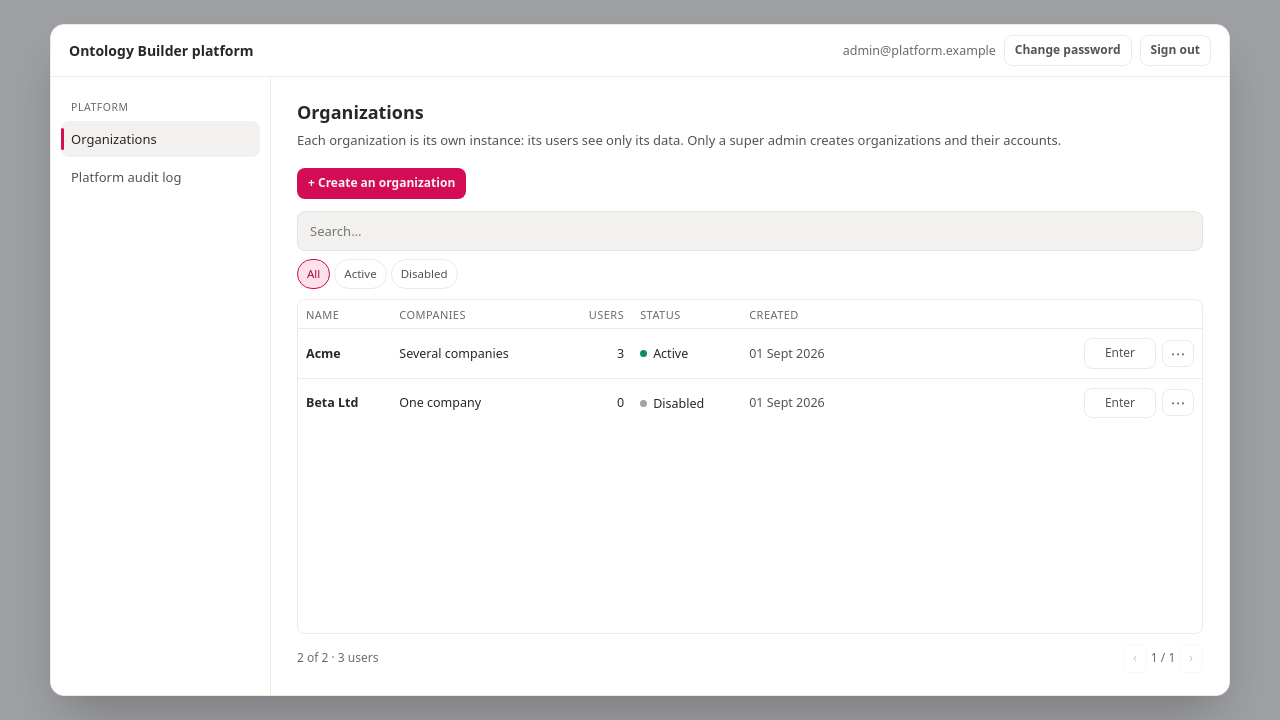
Scenario: the platform portal › shows the platform audit log with its six columns and ok or refused
What coordinates should you click on to do the following:
click the button "Platform audit log"
I would click on:
 (160, 177)
Its box is left=61, top=159, right=260, bottom=196.
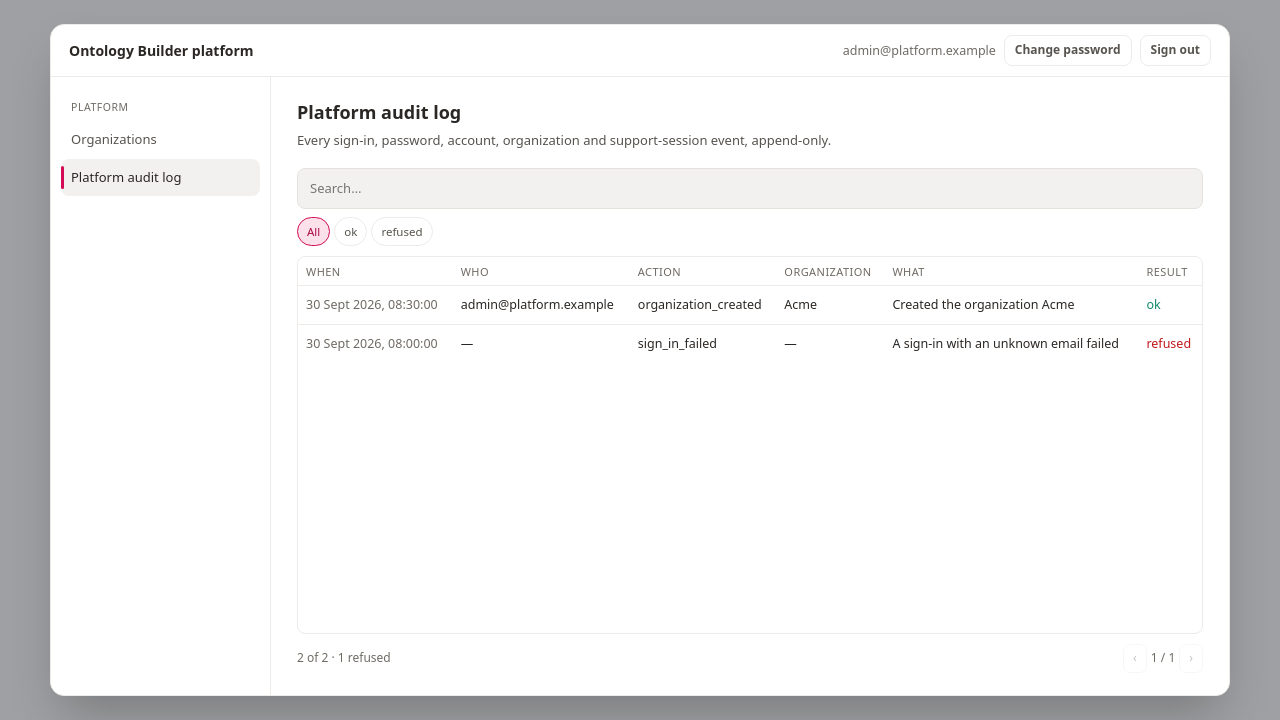
Expected: the heading reads "Platform audit log", left=297, top=100, right=461, bottom=124
